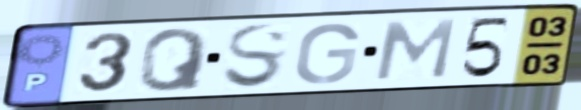3: (73, 30, 137, 96)
5: (458, 15, 512, 80)
G: (290, 21, 362, 87)
M: (370, 16, 460, 82)
Q: (136, 26, 213, 94)
S: (219, 21, 291, 92)
